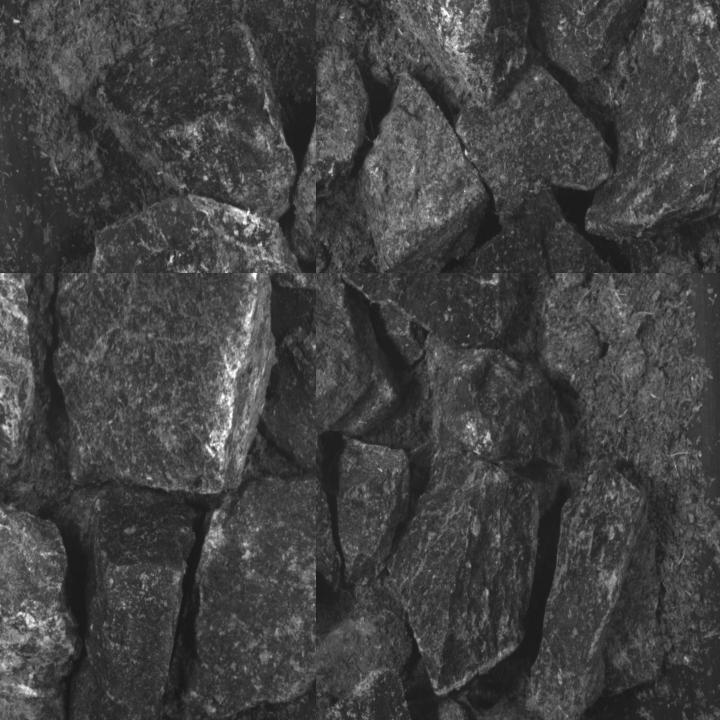stone: (52, 273, 274, 495), (101, 11, 294, 218), (387, 445, 539, 696), (179, 464, 315, 719), (525, 465, 661, 719), (587, 0, 719, 249), (83, 484, 189, 719), (362, 70, 485, 272), (458, 66, 604, 216), (0, 469, 82, 719), (426, 334, 575, 470), (85, 197, 315, 272), (367, 0, 530, 103), (400, 206, 640, 272), (334, 273, 528, 348), (316, 273, 401, 442), (321, 439, 410, 599), (493, 0, 657, 81), (316, 578, 412, 700), (316, 34, 369, 232), (316, 664, 469, 719), (0, 273, 37, 464), (316, 434, 339, 601)
